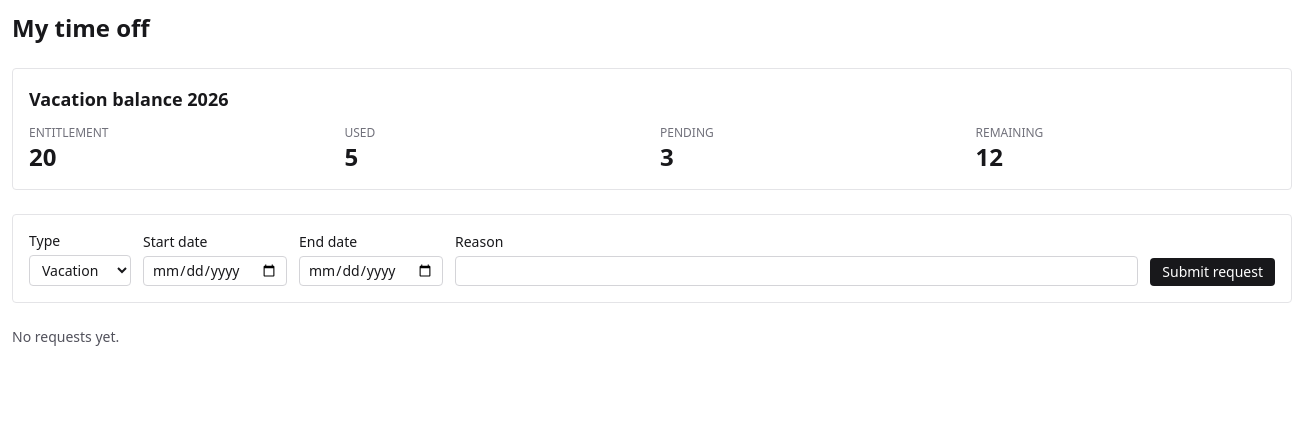
Test: new request form (T4) › error stays until the next action succeeds
Expected: the text "No requests yet." is shown, [12,327,119,346]
Click the button "Submit request" at (1213, 272), box [1150,258,1275,286]
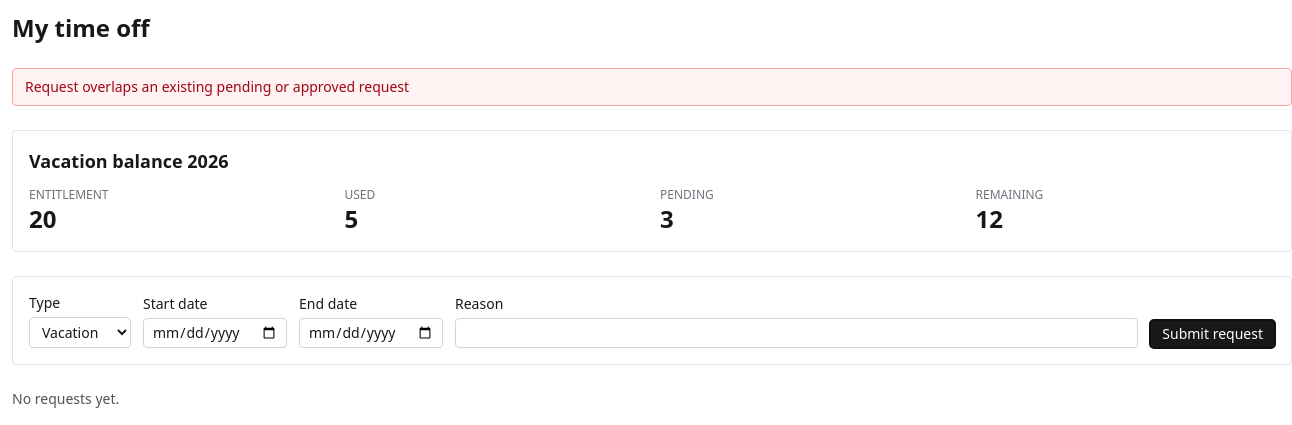
Expected: the message "Request overlaps an existing pending or approved request" is shown, [12,68,1291,106]
Click the button "Submit request" at (1213, 334), box [1150,320,1275,348]
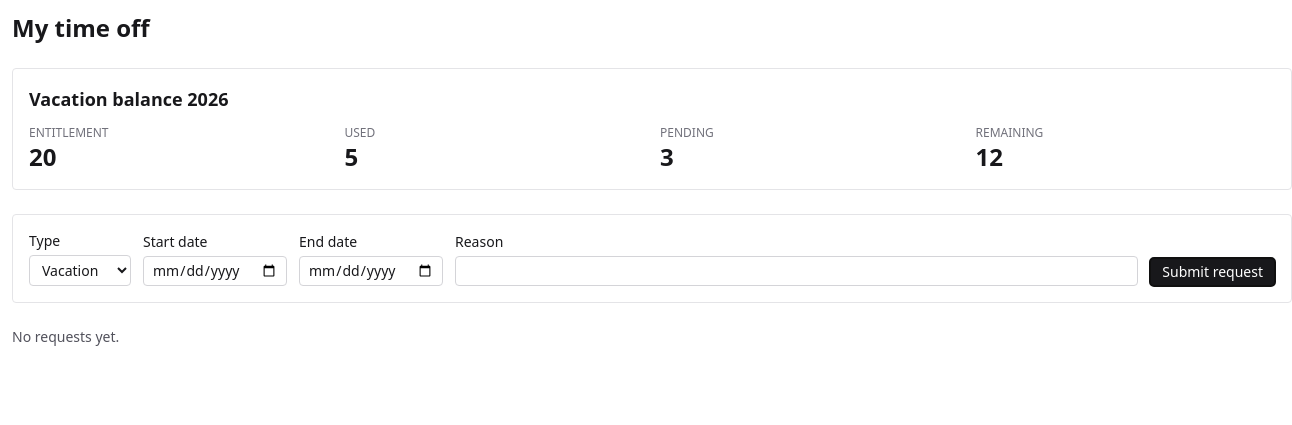
Expected: the message "Request overlaps an existing pending or approved request" is gone
